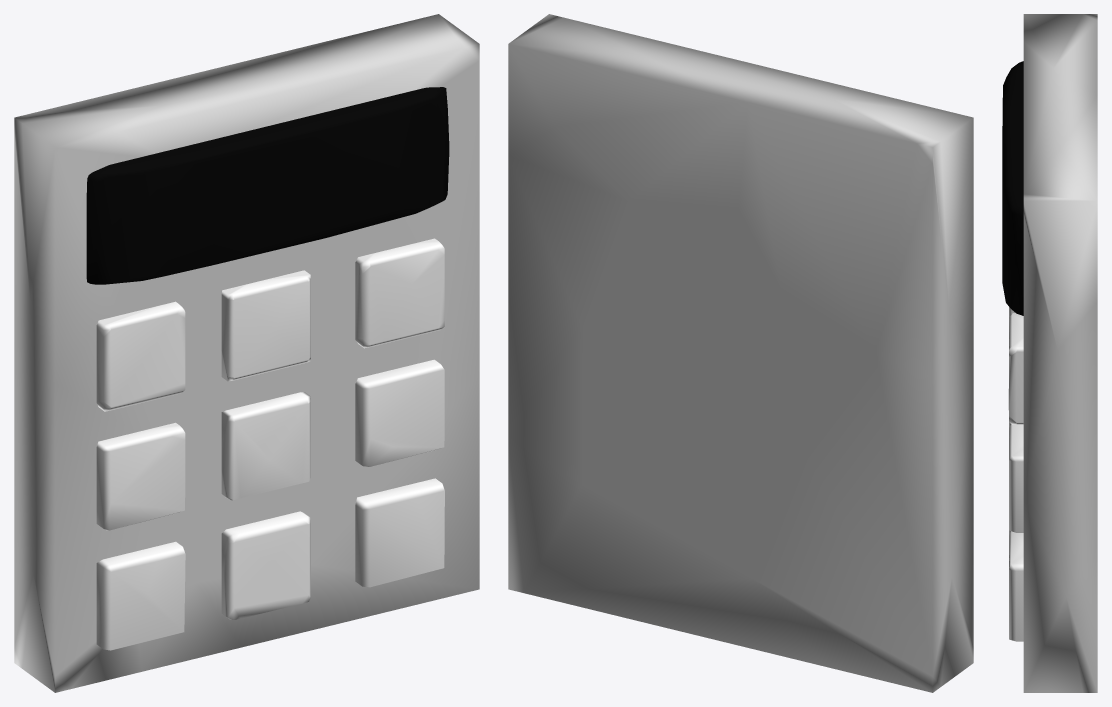
The model's file is Keypadd.obj.
3 views of the same model, side by side, from view 1: azimuth 30°, elevation 25°; view 2: azimuth 150°, elevation 25°; view 3: azimuth 270°, elevation 25° (orthographic). The views are drawn at different scales.
Visible parts, largest first — view 1: Front, Front_1, Left, Top, Top_1, Left_1, Right_1; view 2: Back, Left, Top; view 3: Right, Top, Left_1, Front, Top_1, Front_1.
Part boxes in pixels (left/top/right/bottom): Front: left=55, top=44, right=479, bottom=692; Front_1: left=103, top=243, right=444, bottom=650; Left: left=14, top=118, right=97, bottom=692; Top: left=14, top=14, right=479, bottom=173; Top_1: left=97, top=238, right=443, bottom=567; Left_1: left=96, top=290, right=233, bottom=649; Right_1: left=307, top=257, right=363, bottom=586; Back: left=508, top=44, right=932, bottom=692; Left: left=932, top=118, right=973, bottom=692; Top: left=508, top=14, right=973, bottom=147; Right: left=1016, top=201, right=1097, bottom=692; Top: left=1008, top=14, right=1097, bottom=215; Left_1: left=1009, top=346, right=1023, bottom=641; Front: left=1002, top=63, right=1018, bottom=313; Top_1: left=1009, top=313, right=1023, bottom=563; Front_1: left=1008, top=307, right=1012, bottom=568.
Bounding box in the file's own units: 0.8147 × 1 × 0.1757.
1 material, 1 textured.
